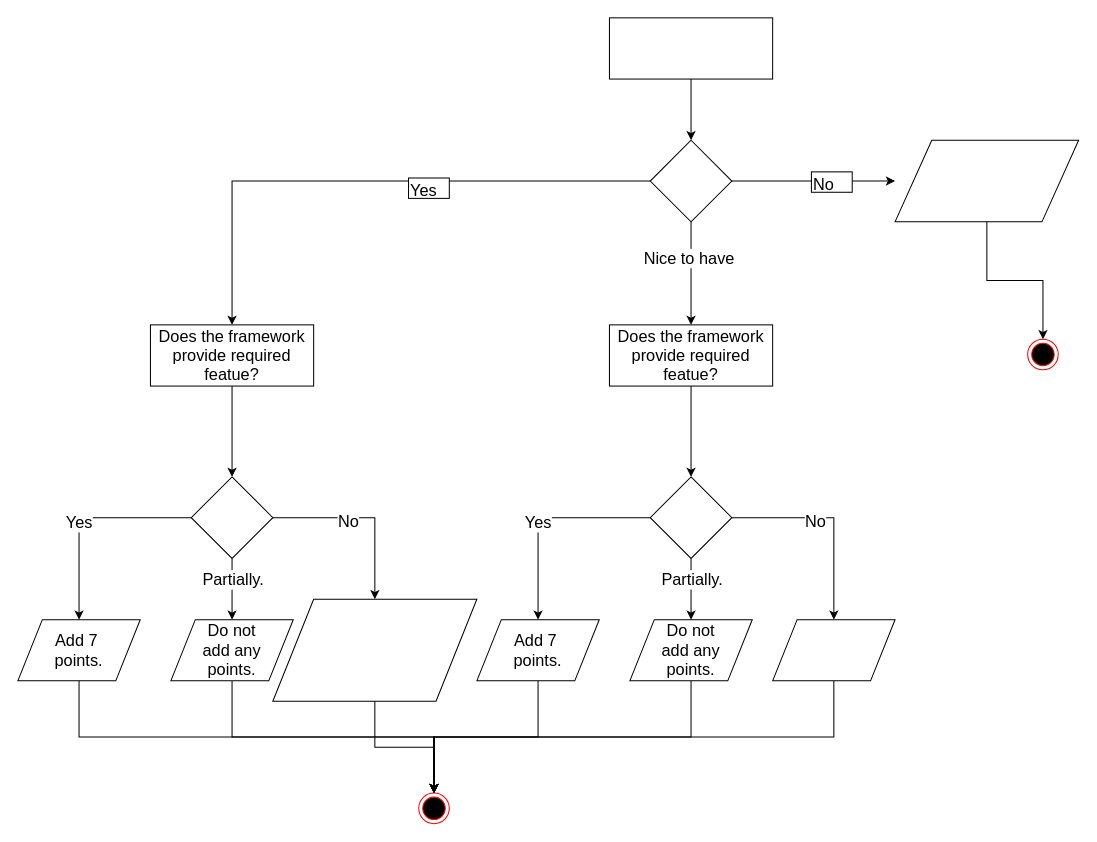
This 1097x842 diagram has some shape labels left out. The centre of each missing label's shape, as x and y in pixels:
Do nothing. Continue to next question.: the point at 986,180
Do you require feature X in your project?: the point at 690,48
Exclude the framework from further consideration.: the point at 374,649
Subtract 7 points.: the point at 833,650
